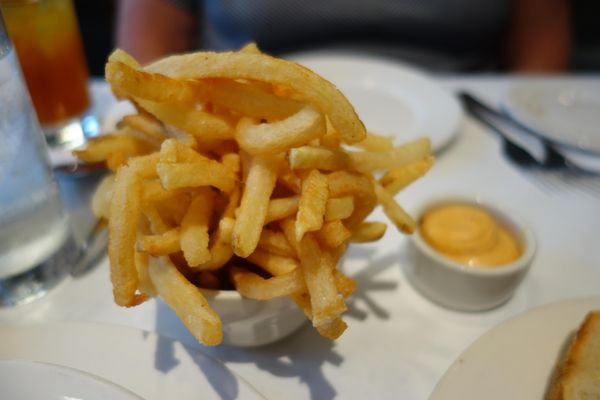sandwich: (459, 90, 564, 167)
sushi: (404, 194, 538, 312)
